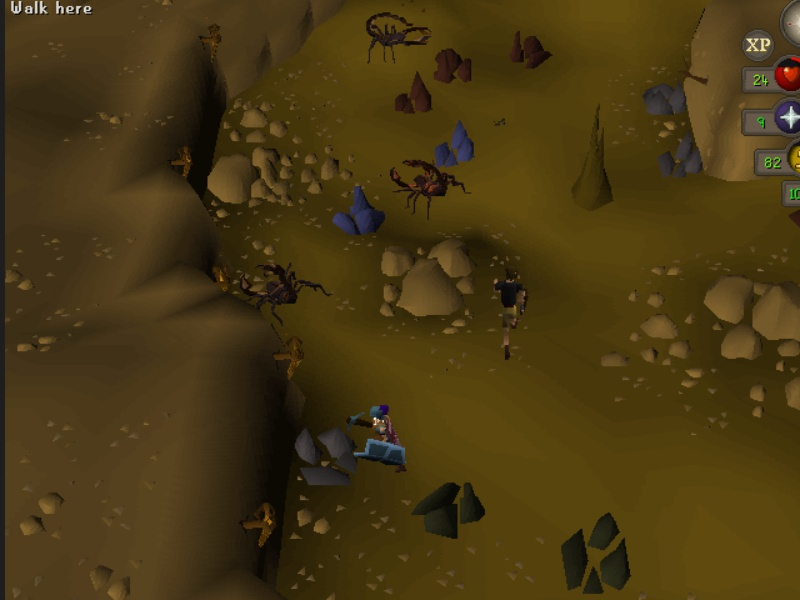coal: (558, 509, 636, 596), (409, 480, 490, 542)
iron: (507, 27, 556, 73), (389, 70, 438, 116), (429, 41, 478, 87)
mithril: (331, 184, 388, 239), (428, 116, 478, 172)
